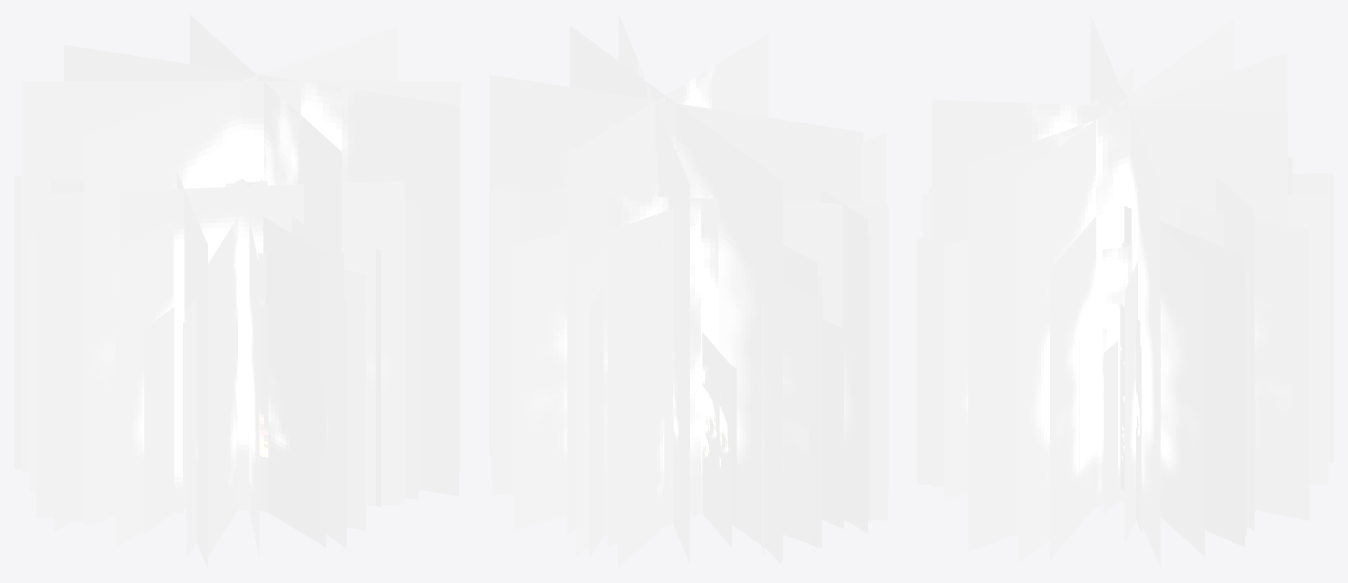
Rendered from E_SCfire_1.glb.
3 renders of one model, left to right at view 1: azimuth 30°, elevation 25°; view 2: azimuth 150°, elevation 25°; view 3: azimuth 270°, elevation 25°, orthographic. The views are drawn at different scales.
Visible parts, largest first — view 1: E_SCfire_1; view 2: E_SCfire_1; view 3: E_SCfire_1.
Boxes of the visible parts, x1=… form: E_SCfire_1: x1=14, y1=14, x2=460, y2=568; E_SCfire_1: x1=489, y1=14, x2=888, y2=568; E_SCfire_1: x1=917, y1=14, x2=1333, y2=568.
Size of the model in its own units: 1.69 by 1.67 by 1.63.
5 materials, 5 textured.
